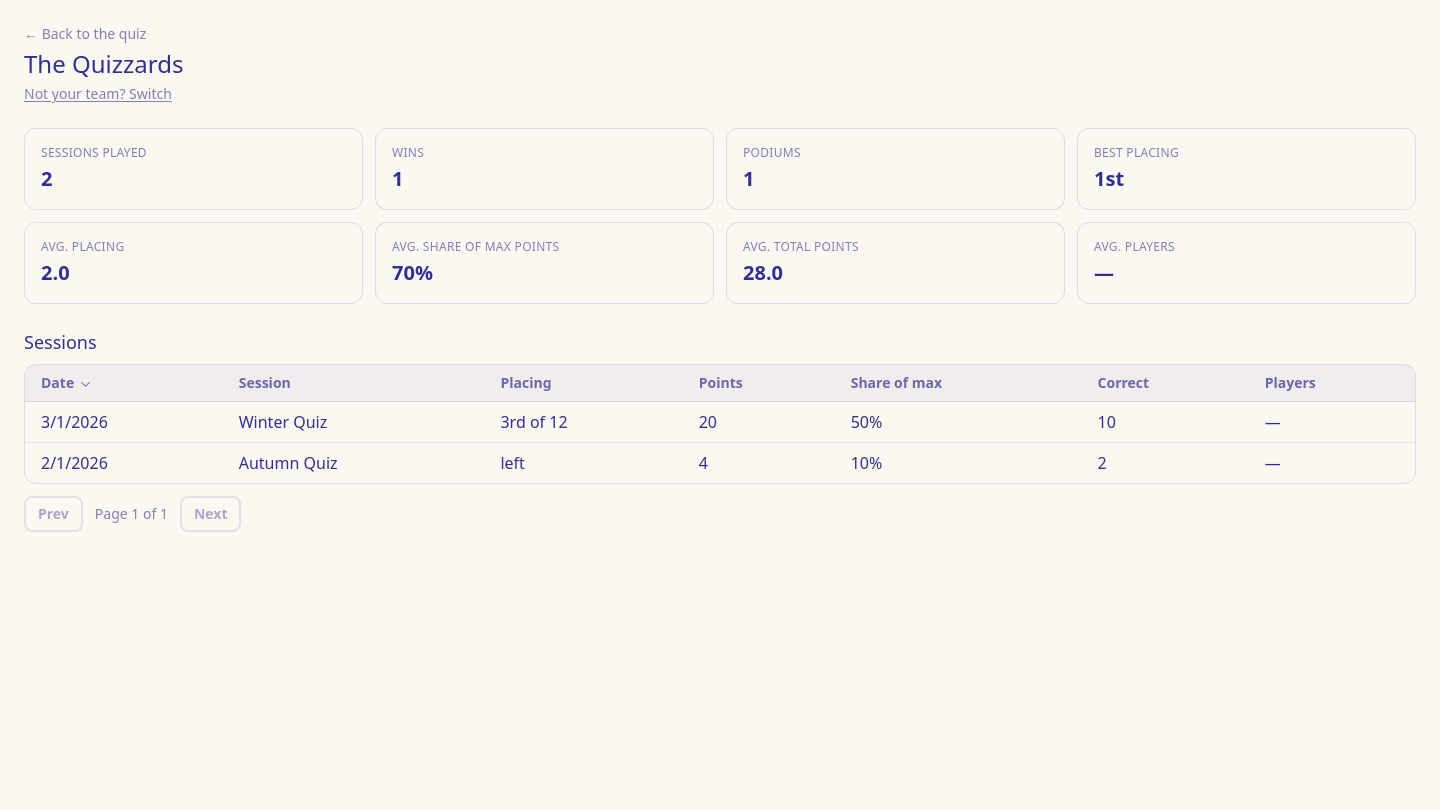
Test case: TeamPagePanel › a night in detail › opens a session to show each question with the team's answer, verdict and the right answer
Click the button "Winter Quiz" at (283, 422), box x1=239 y1=410 x2=327 y2=434
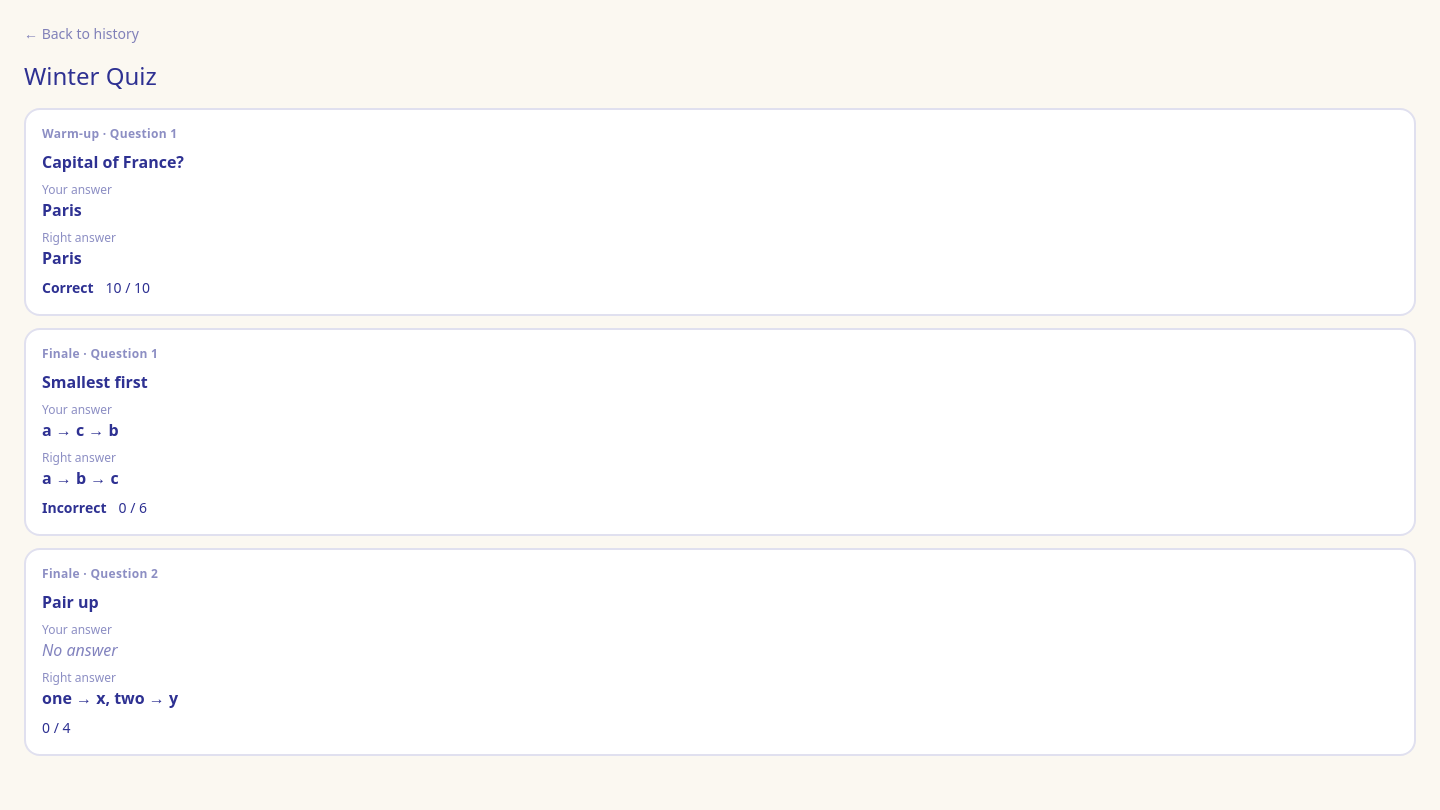
Result: the text "Capital of France?" is shown at x1=42 y1=151 x2=184 y2=173
Result: the text "Warm-up" is shown at x1=42 y1=125 x2=99 y2=142
Result: the text "Your answer" below "Warm-up" is shown at x1=42 y1=181 x2=112 y2=198
